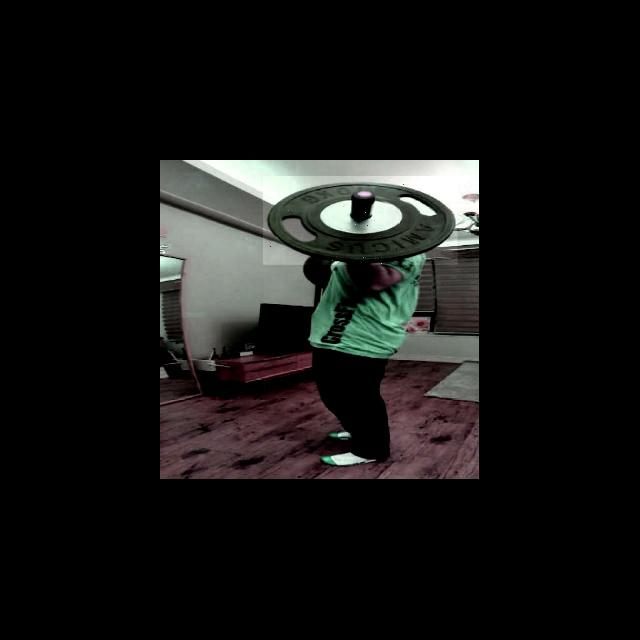barbell: (263, 175, 457, 265)
